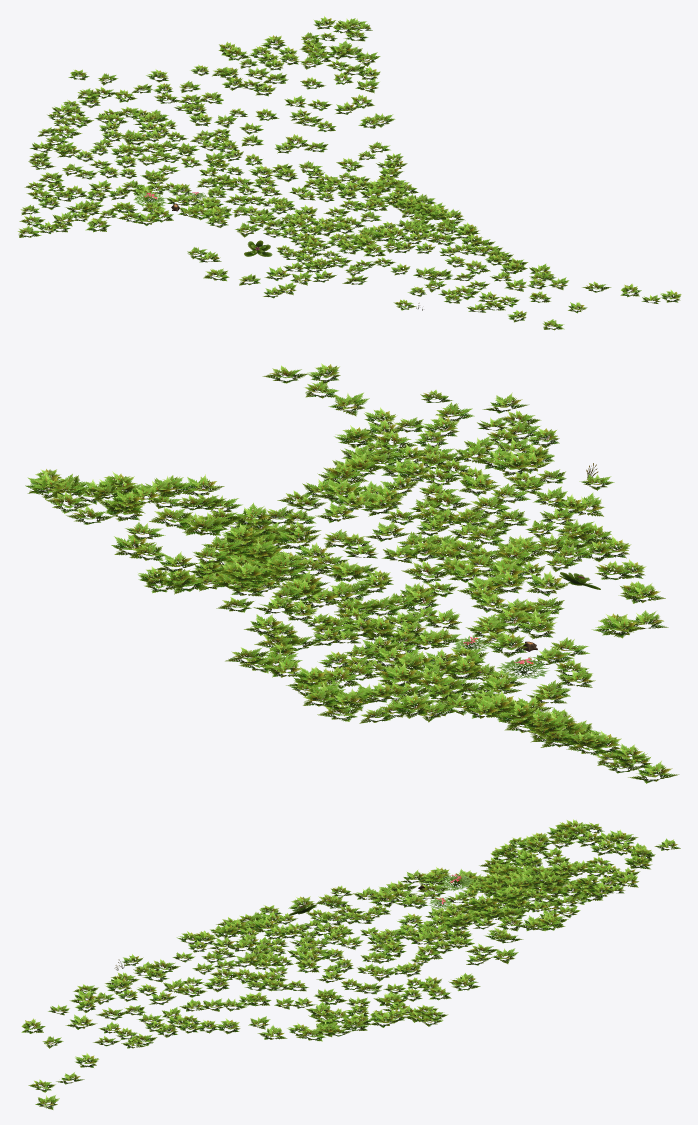
Rendered from Ferns_13.fbx.
3 views of the same model, one above another, from view 1: azimuth 30°, elevation 25°; view 2: azimuth 150°, elevation 25°; view 3: azimuth 270°, elevation 25° (orthographic). The views are drawn at different scales.
Visible parts, largest first — view 1: Ferns_13; view 2: Ferns_13; view 3: Ferns_13.
Boxes of the visible parts, left/top/right/bottom form: Ferns_13: left=17, top=16, right=681, bottom=330; Ferns_13: left=25, top=363, right=679, bottom=783; Ferns_13: left=21, top=819, right=680, bottom=1109.
Size of the model in its own units: 8482 by 2319 by 9833.
